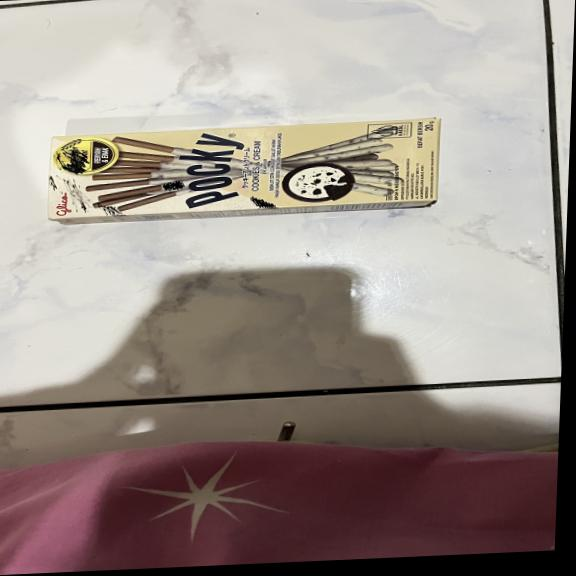Kertas: (46, 115, 441, 220)
